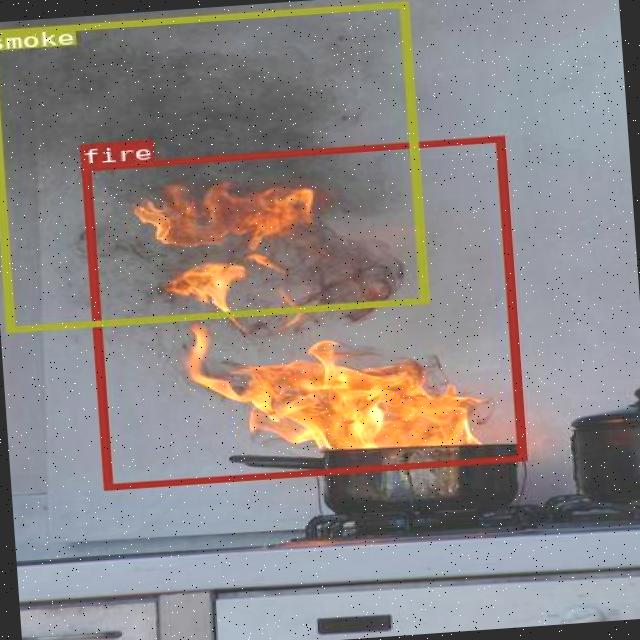fire: (80, 134, 524, 488)
smoke: (0, 0, 427, 331)
